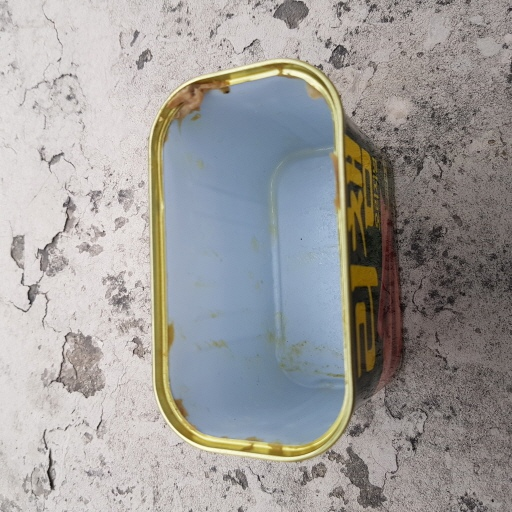Metal_2: (144, 55, 404, 465)
